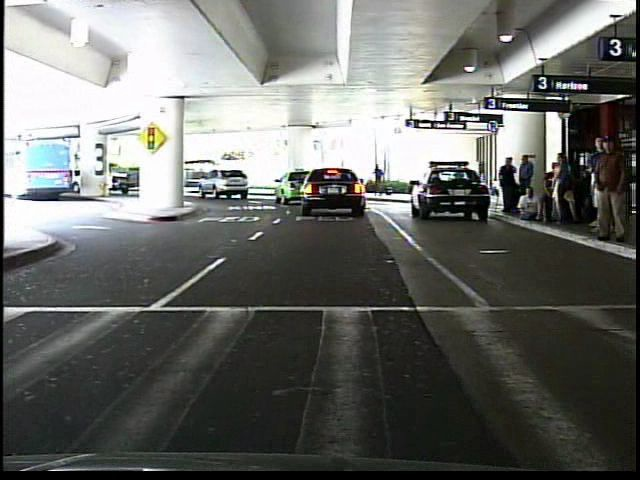person: (591, 132, 630, 247), (495, 156, 518, 215), (516, 153, 539, 194), (370, 162, 385, 199)
